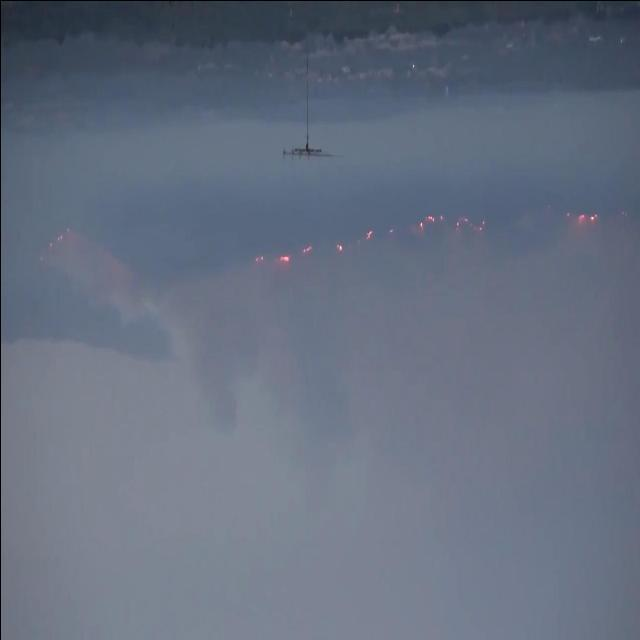Fire: (277, 252, 289, 266), (588, 211, 598, 223), (300, 243, 310, 255), (364, 228, 372, 242), (426, 214, 434, 224), (578, 212, 585, 220), (334, 243, 342, 250), (418, 221, 423, 231)
